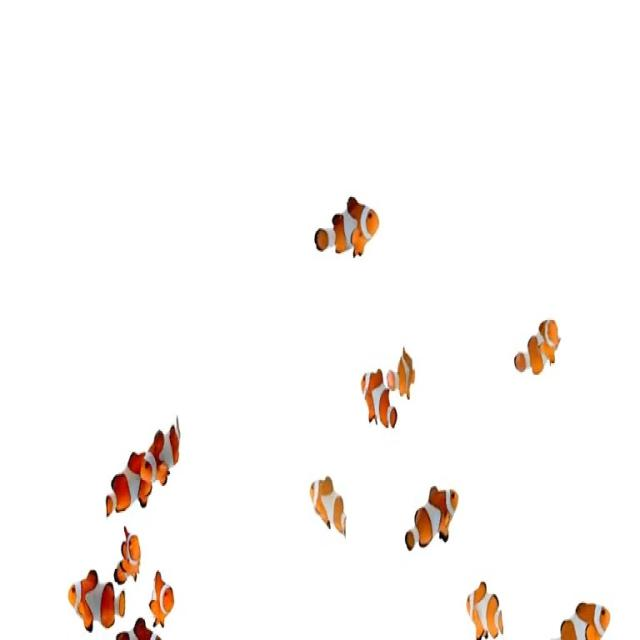fish: (402, 474, 462, 565), (314, 183, 379, 265), (100, 440, 160, 522), (303, 465, 354, 548), (138, 418, 198, 488), (359, 365, 411, 443), (66, 562, 127, 627), (511, 312, 565, 380), (550, 590, 616, 640), (465, 576, 505, 640), (146, 560, 183, 625), (382, 338, 414, 411), (112, 531, 145, 591)
